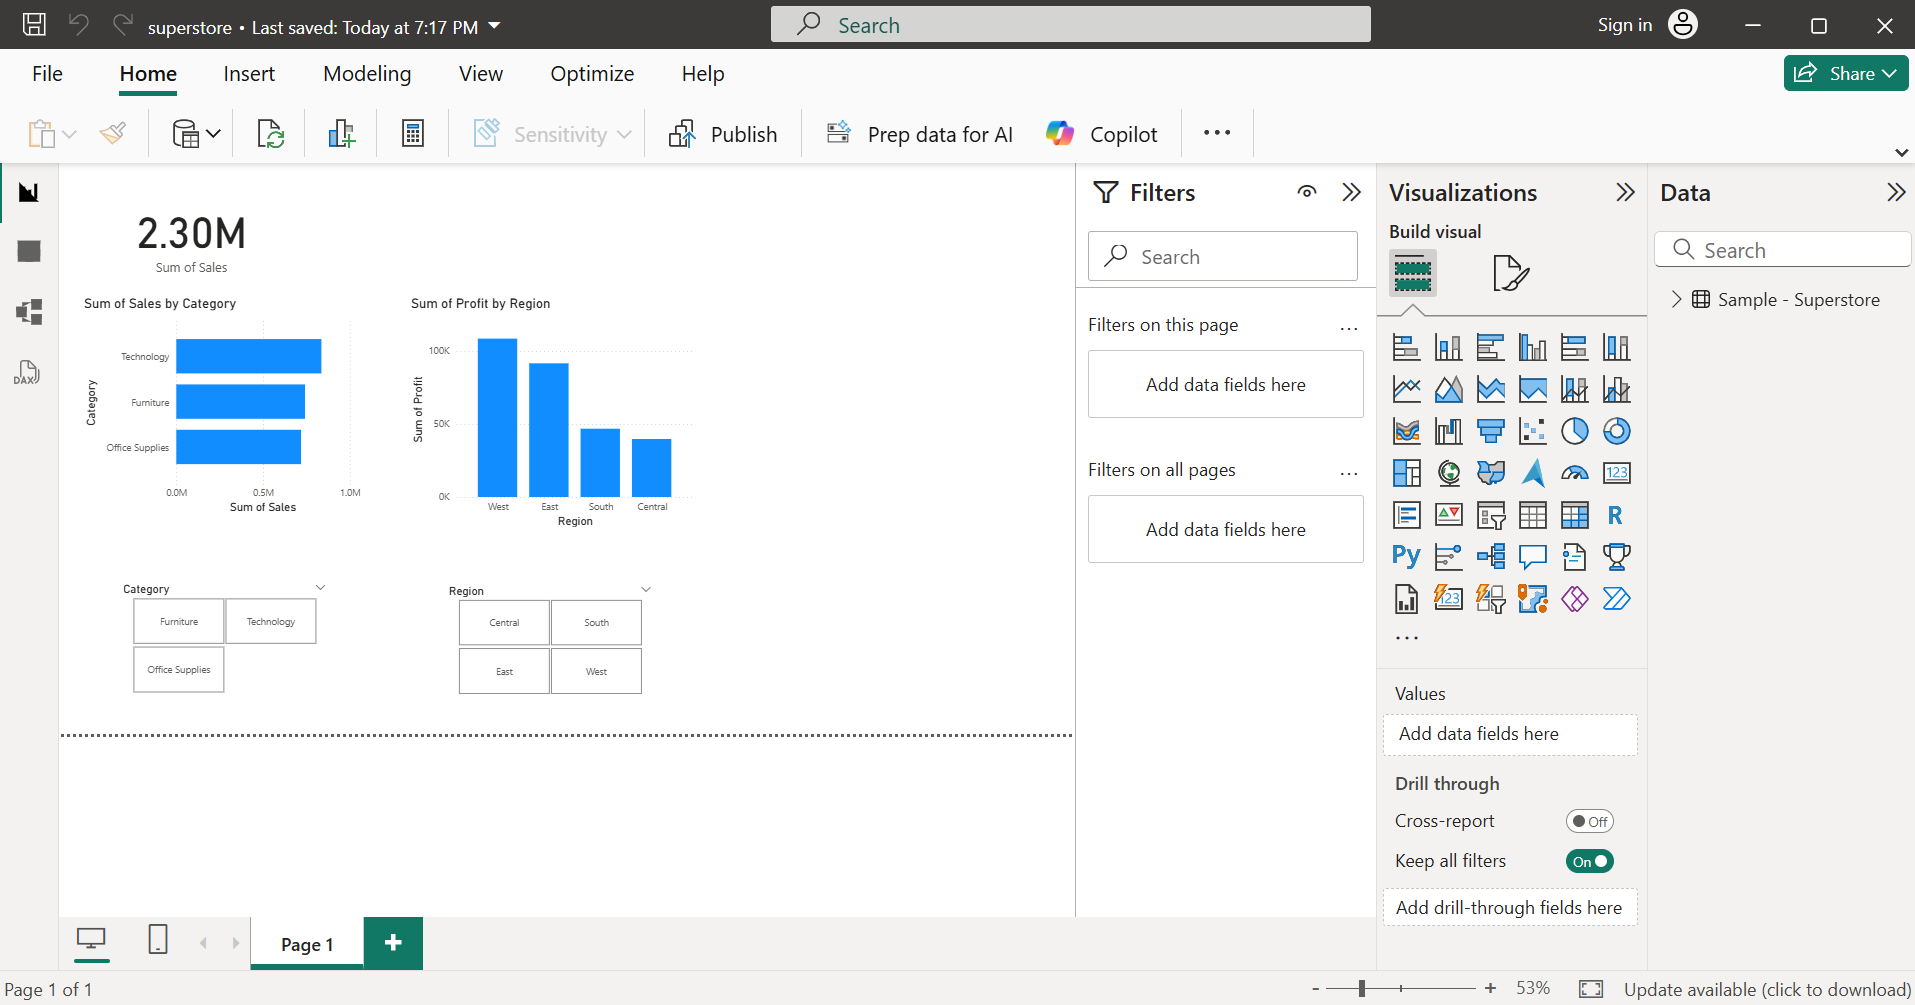

This screenshot's page, from the dashboard's own definition file:
{"tool":"powerbi","page":{"name":"Page 1","canvas":[1280,720],"ordinal":0},"visuals":[{"type":"barChart","fields":{"Category":["Sample - Superstore.Category"],"Y":["Sum(Sample - Superstore.Sales)"]},"box":[27.1,167.1,358.6,280],"z":0},{"type":"columnChart","fields":{"Category":["Sample - Superstore.Region"],"Y":["Sum(Sample - Superstore.Profit)"]},"box":[438.6,167.1,365.7,297.1],"z":1000},{"type":"card","fields":{"Values":["Sum(Sample - Superstore.Sales)"]},"box":[27.1,17.1,280,150],"z":2000},{"type":"slicer","fields":{"Values":["Sample - Superstore.Category"]},"box":[67.1,524.3,280,150],"z":3000},{"type":"slicer","fields":{"Values":["Sample - Superstore.Region"]},"box":[478.6,525.7,280,150],"z":4000}]}

Visuals, with their boxes on the page's 1280x720 design canvas (x1, y1, x2, y2). These are canvas units, not pixel positions in the 1915x1005 screenshot, which may show the page scaled, cropped or inside an application window:
barChart - Sample - Superstore.Category x Sum(Sample - Superstore.Sales): [left=27, top=167, right=386, bottom=447]
columnChart - Sample - Superstore.Region x Sum(Sample - Superstore.Profit): [left=439, top=167, right=804, bottom=464]
card - Sum(Sample - Superstore.Sales): [left=27, top=17, right=307, bottom=167]
slicer - Sample - Superstore.Category: [left=67, top=524, right=347, bottom=674]
slicer - Sample - Superstore.Region: [left=479, top=526, right=759, bottom=676]
